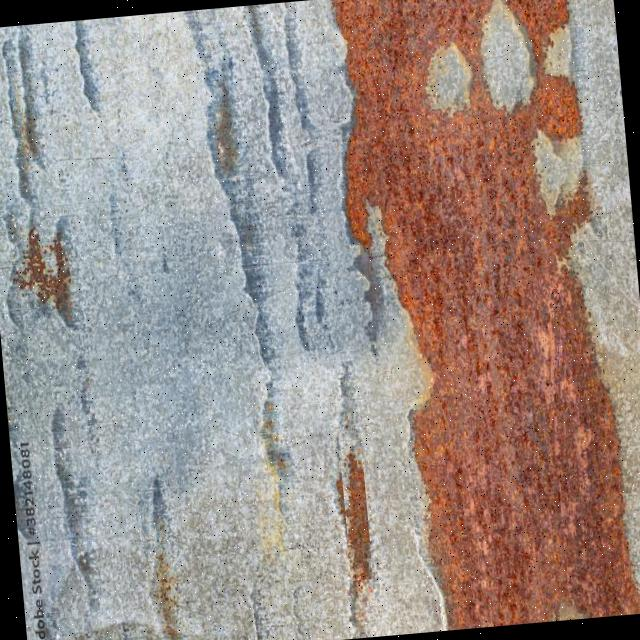Corrosion: (321, 0, 640, 635)
